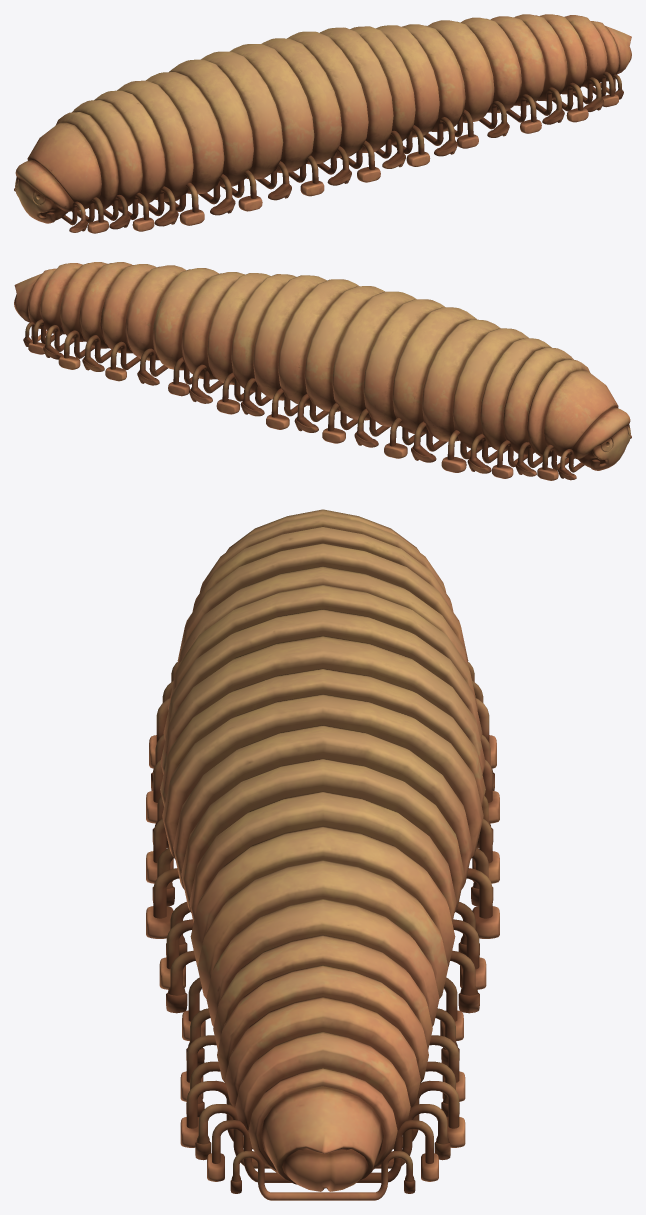
Rendered from Millipede.glb.
3 views of the same model, one above another, from view 1: azimuth 30°, elevation 25°; view 2: azimuth 150°, elevation 25°; view 3: azimuth 270°, elevation 25° (orthographic). The views are drawn at different scales.
Parts seen in each view (by area): view 1: SM_Millipede; view 2: SM_Millipede; view 3: SM_Millipede.
Boxes of the visible parts, x1=… form: SM_Millipede: x1=14, y1=14, x2=631, y2=233; SM_Millipede: x1=14, y1=262, x2=631, y2=480; SM_Millipede: x1=146, y1=509, x2=499, y2=1200.
Size of the model in its own units: 7.03 by 1.29 by 1.77.
Materials: 1 (1 with a texture image).
